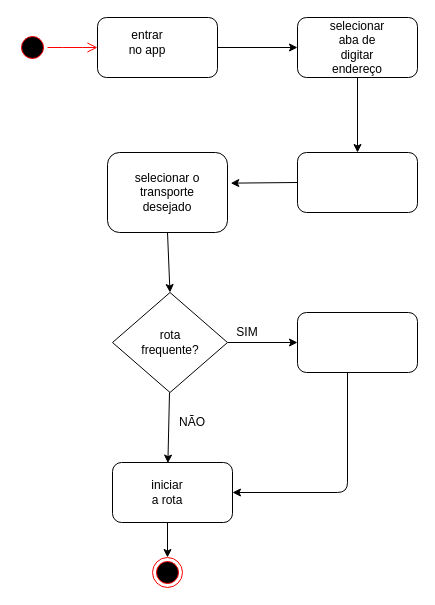
The diagram is 435 pixels wide and 605 high, and some of its shapes have lost their labels. The shapes that lost their labels are listed below. From the top down, each one's centre as x and y in pixels, then its label:
At point (357, 182): "digitar o endereço desejado".
At point (357, 342): "salvar rota".
